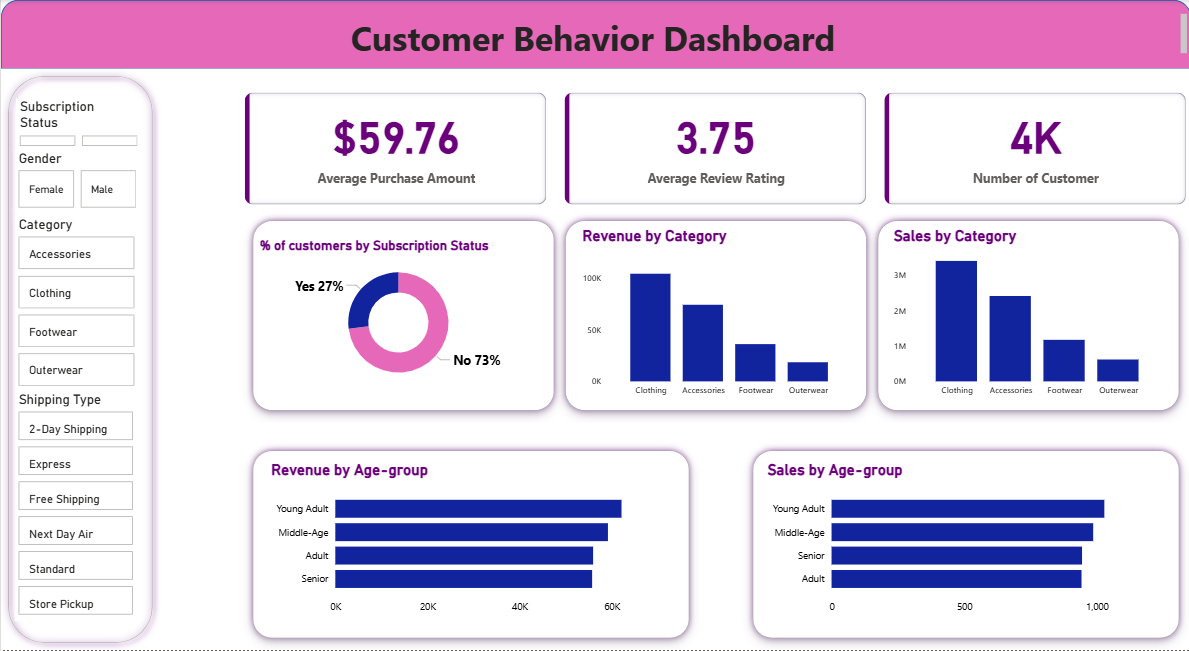

Layout of this report page (visuals, bound fields, positions):
{"tool":"powerbi","page":{"name":"Page 1","canvas":[1500,820],"ordinal":0},"visuals":[{"type":"cardVisual","fields":{"Data":["customer.Average Purchase Amount","customer.Average Review Rating","customer.Number of Customer"]},"box":[302.6,111.9,1197.7,151.3],"z":0},{"type":"shape","box":[0,0,1500.3,86.7],"z":1000},{"type":"textbox","box":[0,0,1500.3,75.6],"z":2000},{"type":"shape","box":[302.6,263.2,409.8,269.5],"z":3000},{"type":"donutChart","title":"% of customers by Subscription Status","fields":{"Category":["customer.subscription_status"],"Y":["Count(customer.customer_id)"]},"box":[321.5,299.4,359.3,193.8],"z":4000},{"type":"shape","box":[933,553.2,567.3,266.3],"z":5000},{"type":"shape","box":[302.6,553.2,580,266.3],"z":6000},{"type":"shape","box":[696.6,263.2,409.8,269.5],"z":7000},{"type":"shape","box":[1090.6,263.2,409.8,269.5],"z":8000},{"type":"columnChart","title":"Revenue by Category","fields":{"Y":["Sum(customer.purchase_amount)"],"Category":["customer.category"]},"box":[728.1,286.8,348.3,222.2],"z":9000},{"type":"columnChart","title":"Sales by Category","fields":{"Y":["Sum(customer.customer_id)"],"Category":["customer.category"]},"box":[1120.5,286.8,348.3,222.2],"z":10000},{"type":"shape","box":[0,86.7,200.1,732.8],"z":11000},{"type":"advancedSlicerVisual","title":"Subscription Status","fields":{"Values":["customer.subscription_status"]},"box":[18.9,124.5,159.2,64.6],"z":11001},{"type":"advancedSlicerVisual","title":"Gender","fields":{"Values":["customer.gender"]},"box":[17.3,189.1,159.2,78.8],"z":11002},{"type":"advancedSlicerVisual","title":"Category","fields":{"Values":["customer.category"]},"box":[17.3,272.6,156,220.6],"z":11003},{"type":"advancedSlicerVisual","title":"Shipping Type","fields":{"Values":["customer.shipping_type"]},"box":[17.3,493.3,154.4,290],"z":11004},{"type":"clusteredBarChart","title":"Revenue by Age-group","fields":{"Y":["Sum(customer.purchase_amount)"],"Category":["customer.age_group"]},"box":[335.7,581.5,507.5,201.7],"z":11005},{"type":"clusteredBarChart","title":"Sales by Age-group","fields":{"Y":["CountNonNull(customer.purchase_amount)"],"Category":["customer.age_group"]},"box":[961.3,581.5,507.5,201.7],"z":11006}]}

Visuals, with their boxes in screenshot pixels (x1, y1, x2, y2), scaled from the page's 1500x820 canvas onto the 1189x651 screenshot:
cardVisual - customer.Average Purchase Amount x customer.Average Review Rating: 240,89,1188,209
shape: 0,0,1188,69
textbox: 0,0,1188,60
shape: 240,209,565,423
"% of customers by Subscription Status" donutChart: 255,238,540,392
shape: 740,439,1188,650
shape: 240,439,700,650
shape: 552,209,877,423
shape: 864,209,1188,423
"Revenue by Category" columnChart: 577,228,853,404
"Sales by Category" columnChart: 888,228,1164,404
shape: 0,69,159,650
"Subscription Status" advancedSlicerVisual: 15,99,141,150
"Gender" advancedSlicerVisual: 14,150,140,213
"Category" advancedSlicerVisual: 14,216,137,392
"Shipping Type" advancedSlicerVisual: 14,392,136,622
"Revenue by Age-group" clusteredBarChart: 266,462,668,622
"Sales by Age-group" clusteredBarChart: 762,462,1164,622
